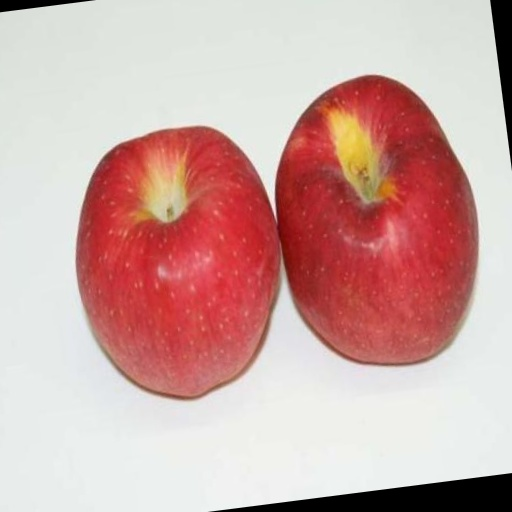fruit: (275, 76, 477, 363), (75, 127, 279, 396)
